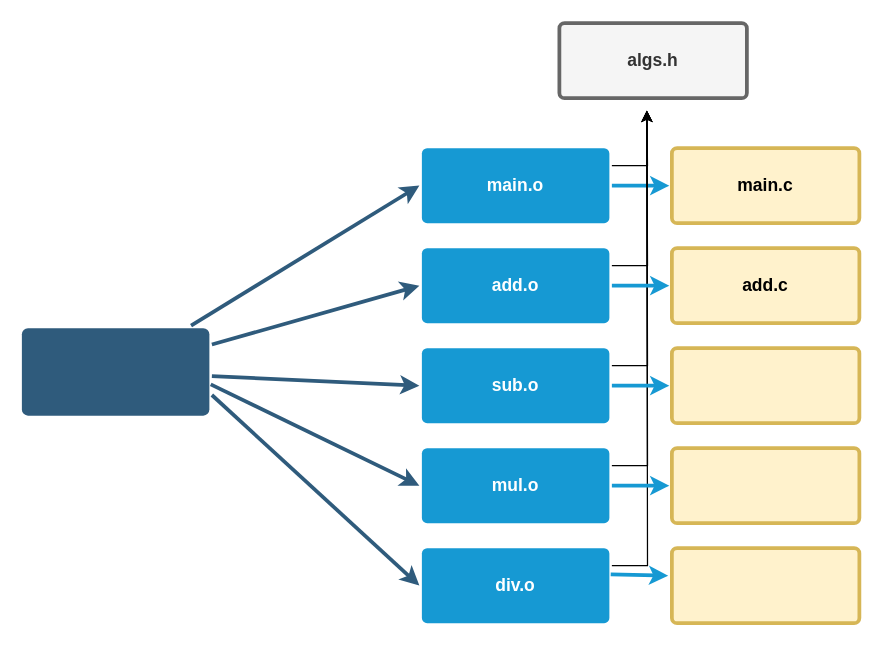
Image size: 883x646. Some labels were removed from this diagram. Each missing label, with the centre of its shape:
div.c: (x=765, y=585)
main: (x=115, y=371)
mul.c: (x=765, y=485)
sub.c: (x=765, y=385)
